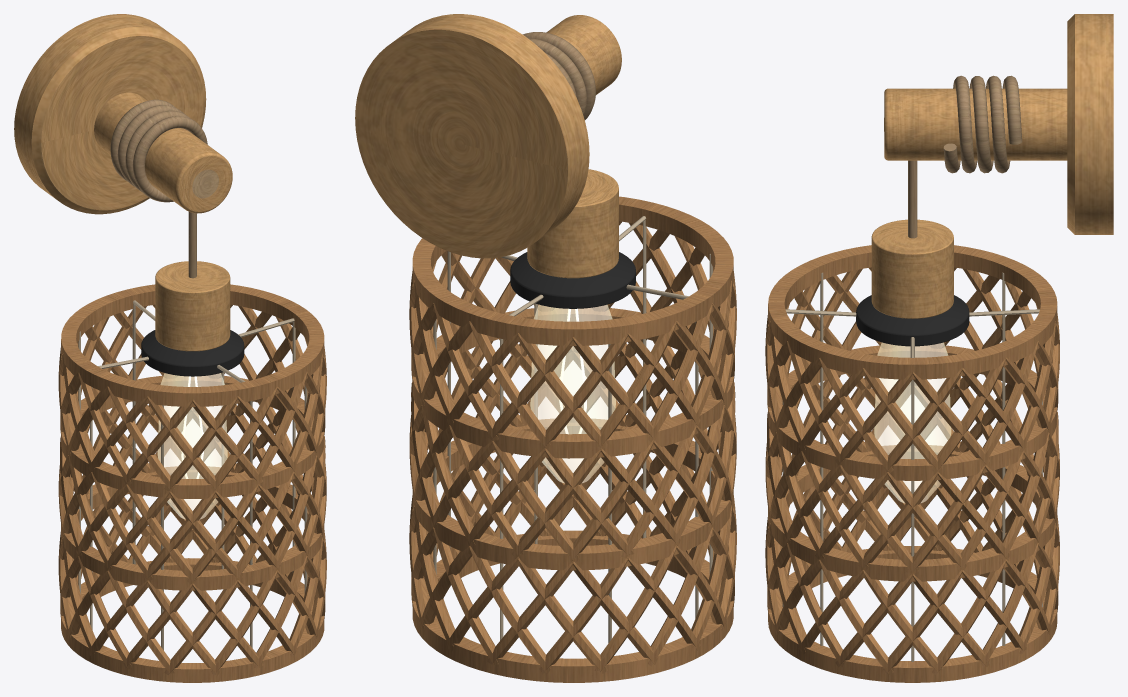
The model's file is hemp-rope-cylinder-bedside-wall-lamp.glb.
The picture shows the model from 3 angles, left to right: view 1: azimuth 30°, elevation 25°; view 2: azimuth 150°, elevation 25°; view 3: azimuth 270°, elevation 25°; orthographic projection. The views are drawn at different scales.
Visible parts, largest first — view 1: WoodPlate, RopeRing_0, SocketCover, WoodArm, RopeRing_1, RopeRing_3, RopeRing_2, ArmRope, BulbGlass, SocketCollar, I_strand0m__011, I_strand2p__013 (+54 smaller); view 2: WoodPlate, RopeRing_0, RopeRing_1, RopeRing_3, RopeRing_2, SocketCover, BulbGlass, SocketCollar, WoodArm, ArmRope, I_strand2m__005, I_strand0m__005 (+58 smaller); view 3: RopeRing_0, WoodPlate, WoodArm, SocketCover, RopeRing_1, RopeRing_3, RopeRing_2, ArmRope, BulbGlass, SocketCollar, I_strand0p__001, I_strand2p__001 (+60 smaller).
Part boxes in pixels (x1,y1,x2,y2): WoodPlate: (14, 14, 206, 214); RopeRing_0: (61, 284, 324, 406); SocketCover: (155, 261, 230, 351); WoodArm: (94, 92, 232, 213); RopeRing_1: (61, 376, 324, 498); RopeRing_3: (61, 558, 324, 682); RopeRing_2: (61, 466, 324, 590); ArmRope: (110, 99, 207, 202); BulbGlass: (157, 373, 227, 519); SocketCollar: (141, 330, 244, 376); I_strand0m__011: (147, 396, 220, 491); I_strand2p__013: (164, 580, 237, 675); WoodPlate: (355, 14, 589, 258); RopeRing_0: (412, 196, 733, 345); RopeRing_1: (412, 308, 733, 458); RopeRing_3: (412, 530, 733, 682); RopeRing_2: (412, 419, 733, 570); SocketCover: (527, 169, 618, 278); BulbGlass: (530, 304, 615, 483); SocketCollar: (510, 252, 635, 308); WoodArm: (546, 15, 621, 94); ArmRope: (522, 32, 595, 119); I_strand2m__005: (517, 557, 607, 673); I_strand0m__005: (517, 333, 607, 448); RopeRing_0: (768, 245, 1057, 379); WoodPlate: (1067, 14, 1113, 234); WoodArm: (884, 88, 1067, 160); SocketCover: (871, 219, 953, 318); RopeRing_1: (768, 345, 1057, 480); RopeRing_3: (768, 546, 1057, 682); RopeRing_2: (768, 445, 1057, 581); ArmRope: (943, 75, 1022, 173); BulbGlass: (874, 342, 951, 503); SocketCollar: (856, 295, 969, 346); I_strand0p__001: (882, 368, 962, 471); I_strand2p__001: (882, 570, 962, 673).
Bounding box in the file's own units: 0.1454 × 0.3254 × 0.1718.
8 materials, 6 textured.
